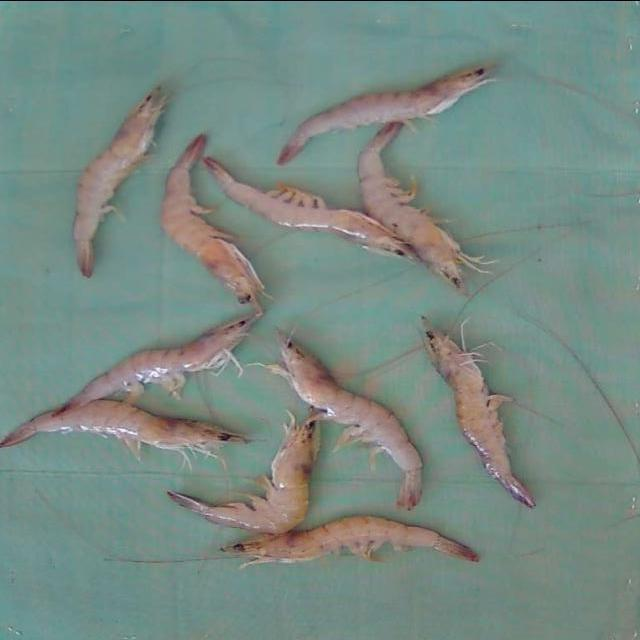shrimp: (268, 331, 422, 509), (358, 120, 494, 295), (202, 156, 417, 259), (422, 315, 536, 508), (277, 65, 495, 163), (59, 312, 260, 409), (161, 133, 264, 310), (168, 416, 320, 533), (72, 85, 165, 276), (0, 399, 249, 459), (221, 515, 479, 566)
